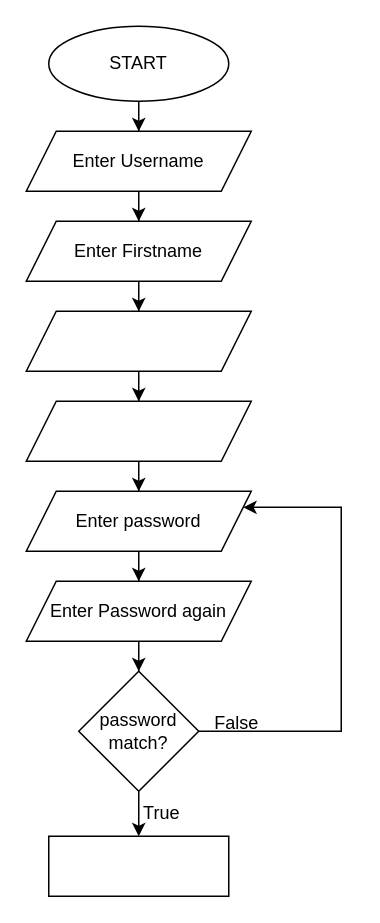
Image size: 380x923. Some labels were removed from this diagram. Here are the shapes that lost their labels. From the top down, the centre of each, then its label:
[138,340]: Enter Lastname
[138,430]: Enter email
[138,865]: Register User
